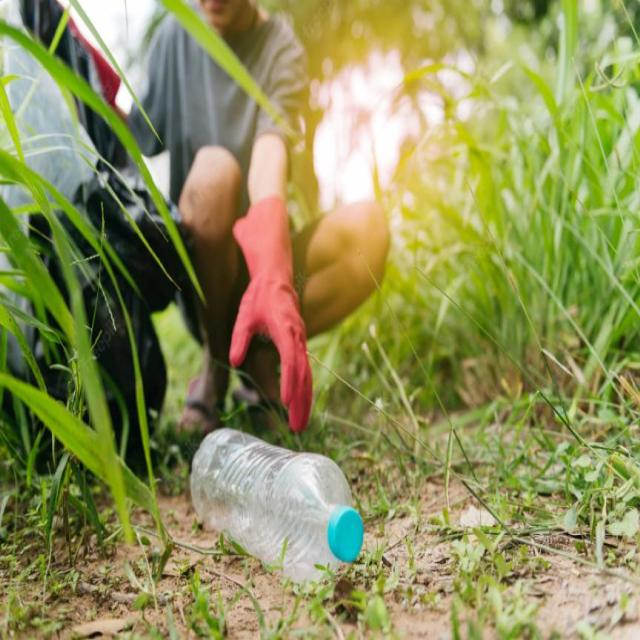bottle: (181, 405, 376, 601)
